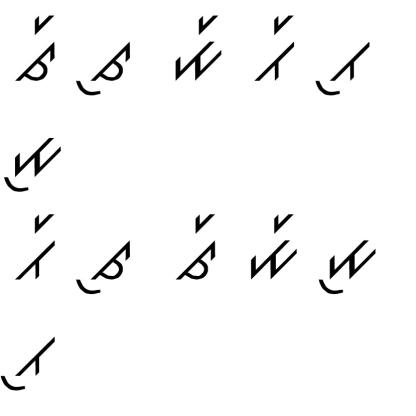bar: (250, 7, 300, 89), (12, 210, 59, 282)
baw: (312, 27, 372, 99), (0, 330, 62, 397)
car: (10, 8, 64, 89), (169, 204, 221, 284)
caw: (70, 27, 133, 107), (66, 225, 134, 296)
mar: (245, 208, 302, 283), (170, 10, 229, 81)
maw: (316, 225, 382, 302), (3, 130, 64, 200)
